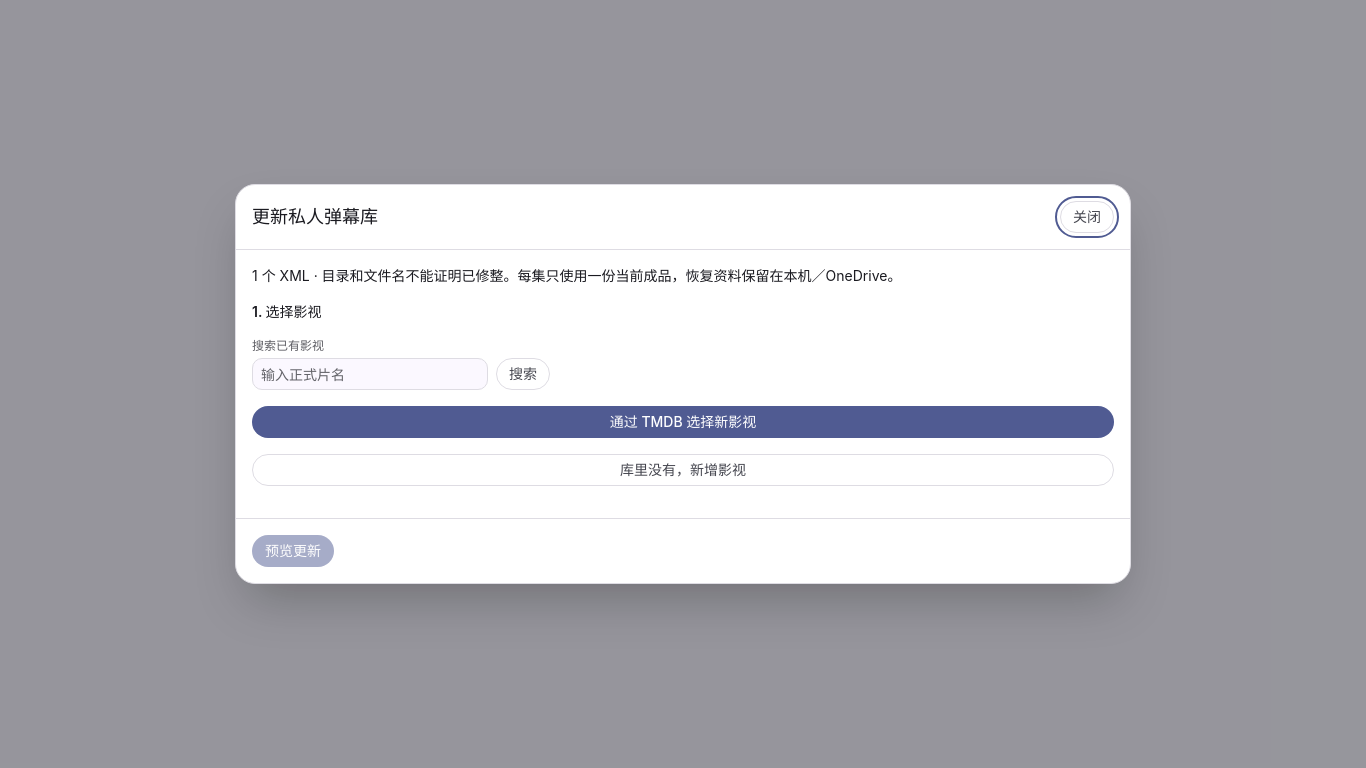
Test: redirects duplicate formal titles to choosing the existing work, and refuses stale preview baselines
The width and height of the screenshot is (1366, 768).
Click the button "库里没有，新增影视": click(683, 470) [252,454,1114,486]
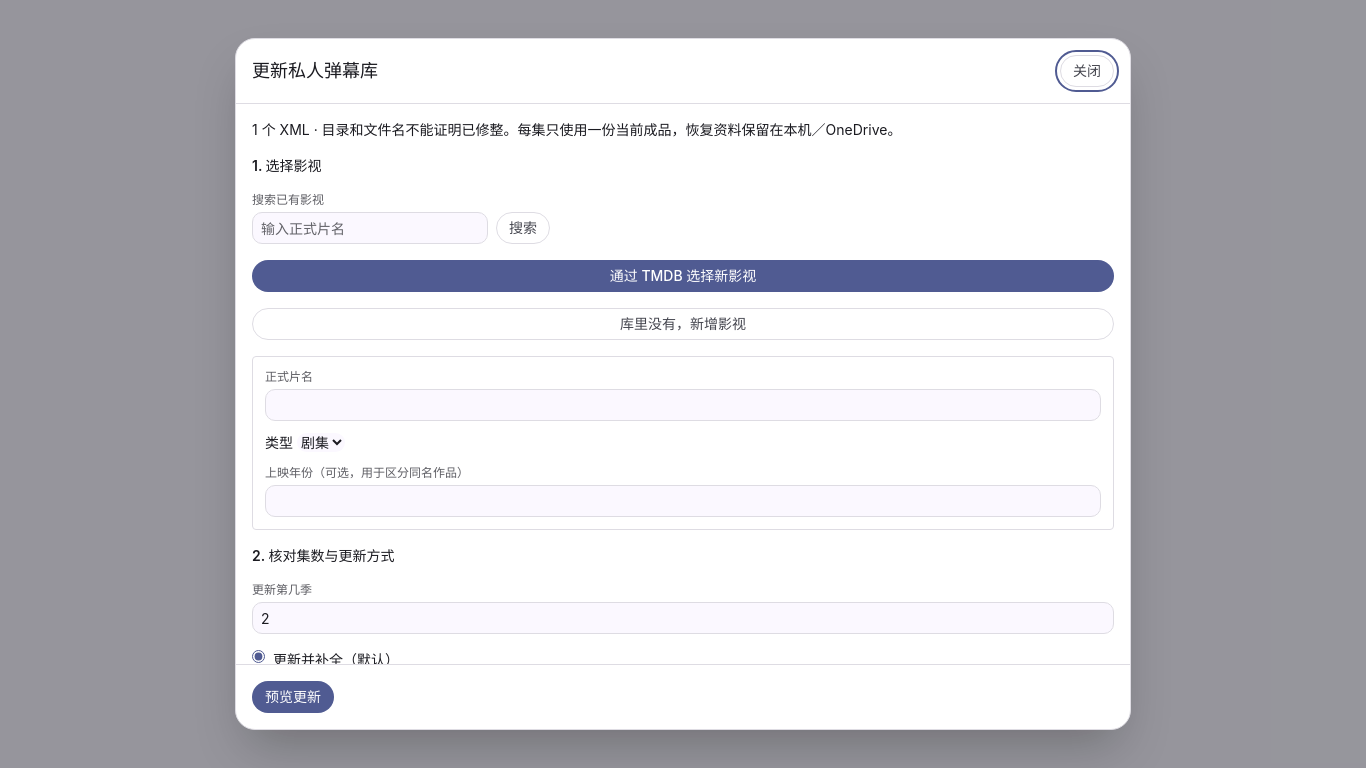
In the field labelled "正式片名": (683, 405) [265,389,1101,421], type "正式片名"
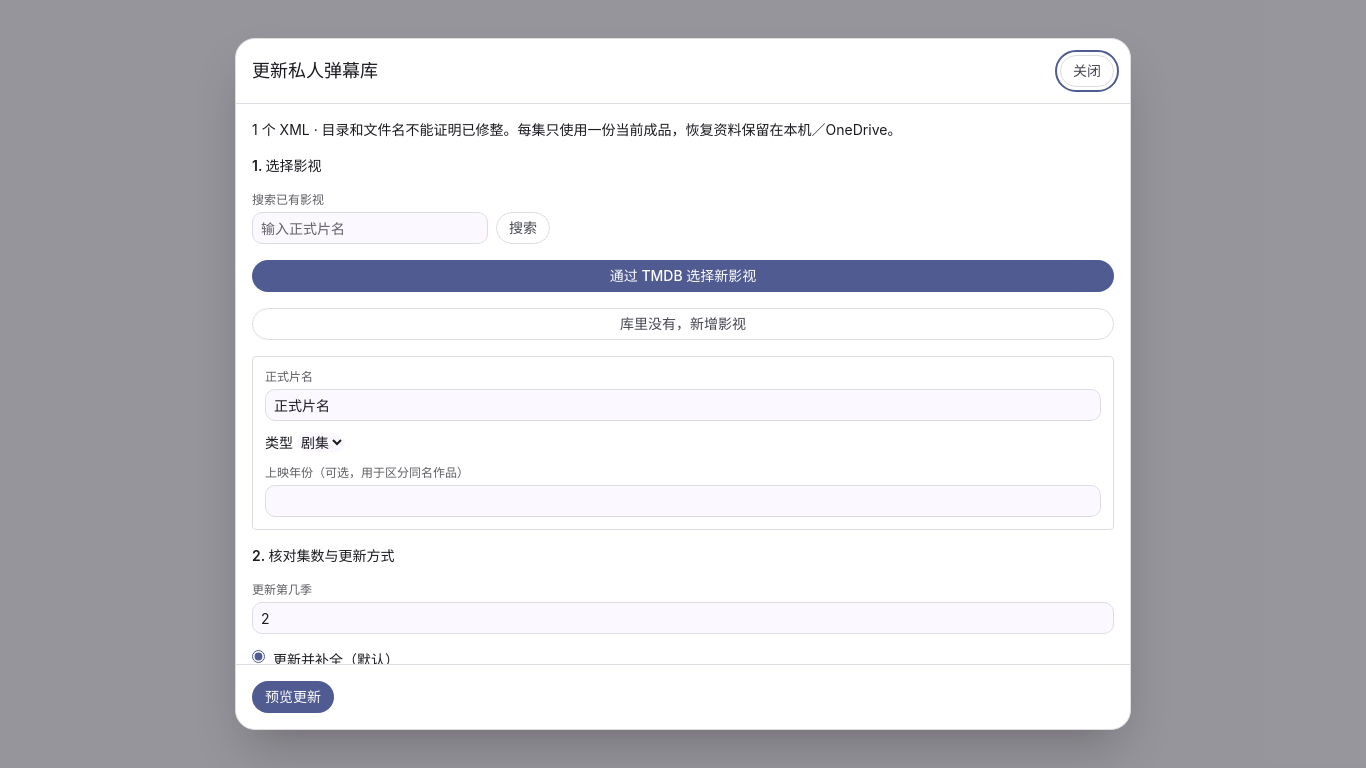
Click the button "预览更新": click(293, 697) [252,681,334,713]
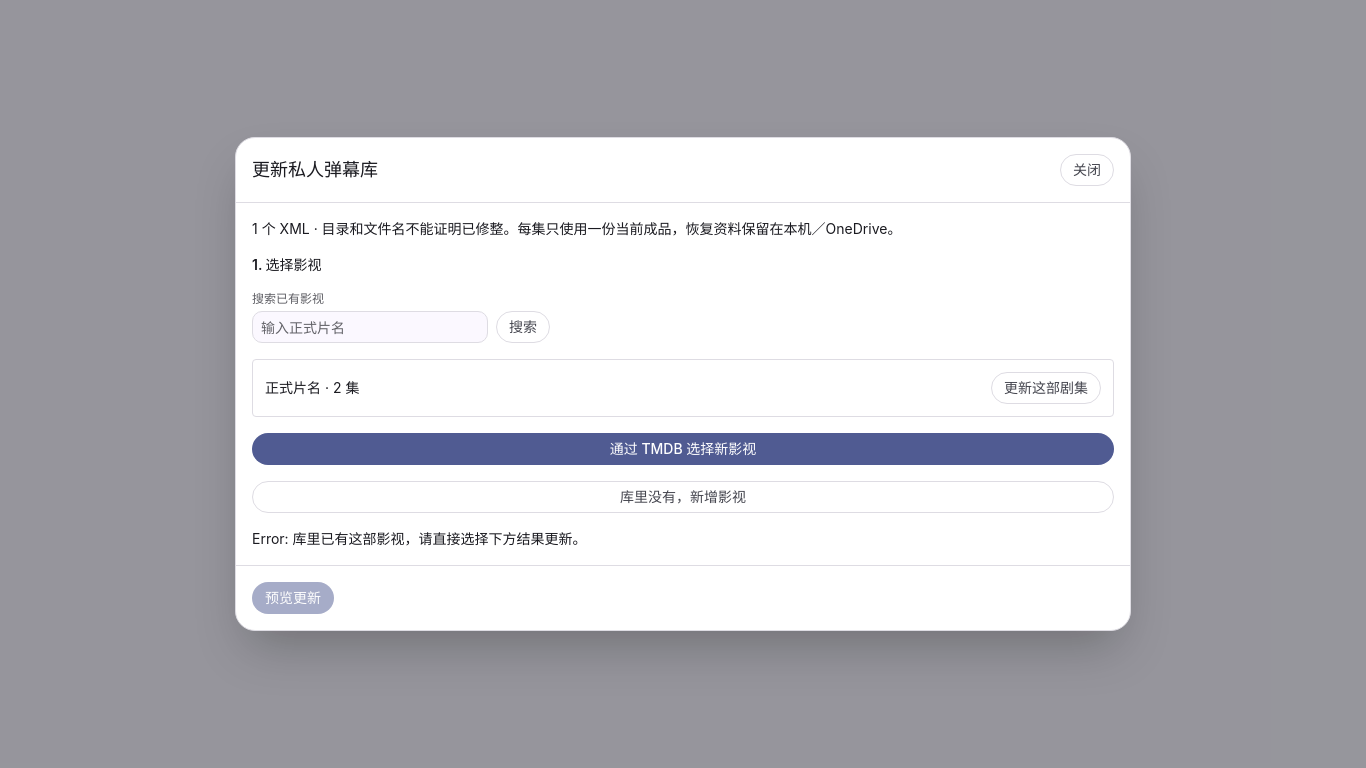
Now the text "Error: 库里已有这部影视，请直接选择下方结果更新。" is shown, box [252,530,587,547]
Click the button "更新这部剧集": click(1046, 388) [991,372,1101,404]
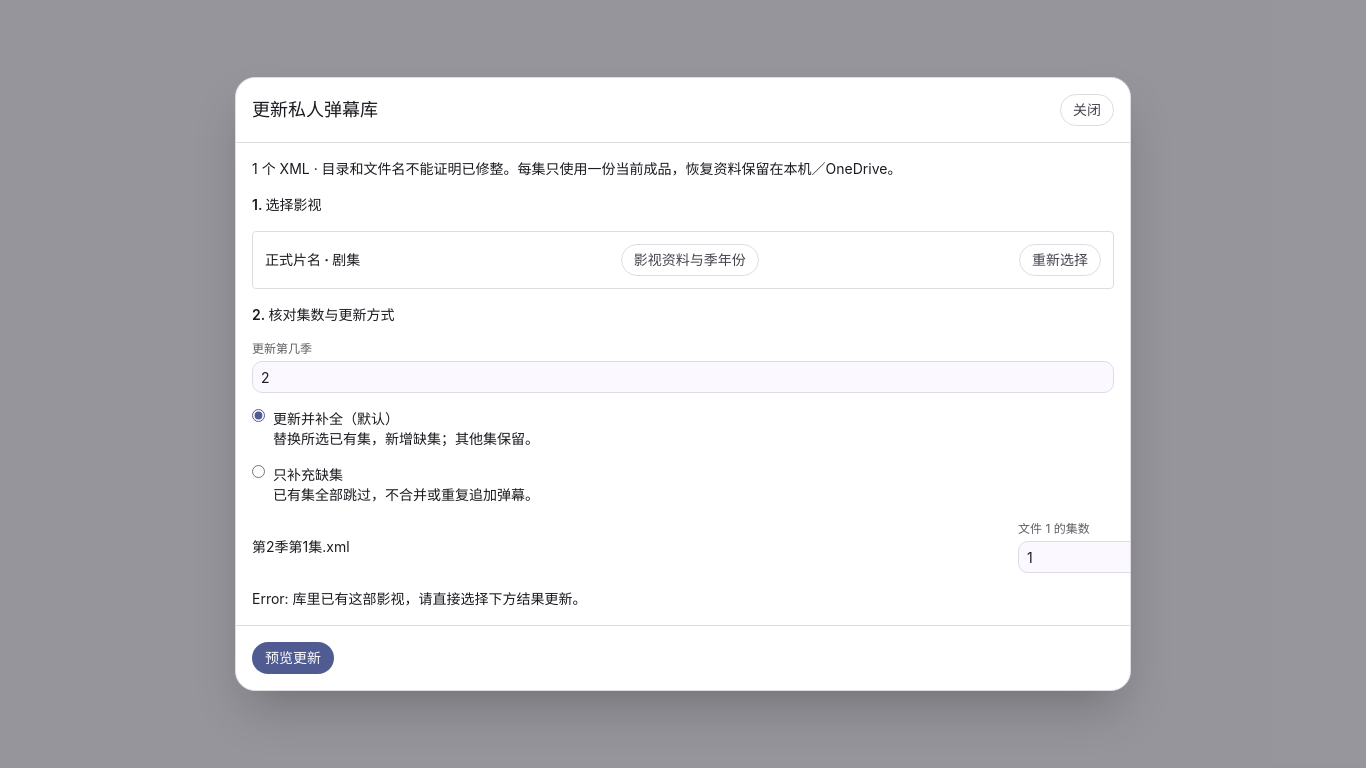
Click the button "预览更新": click(293, 658) [252,642,334,674]
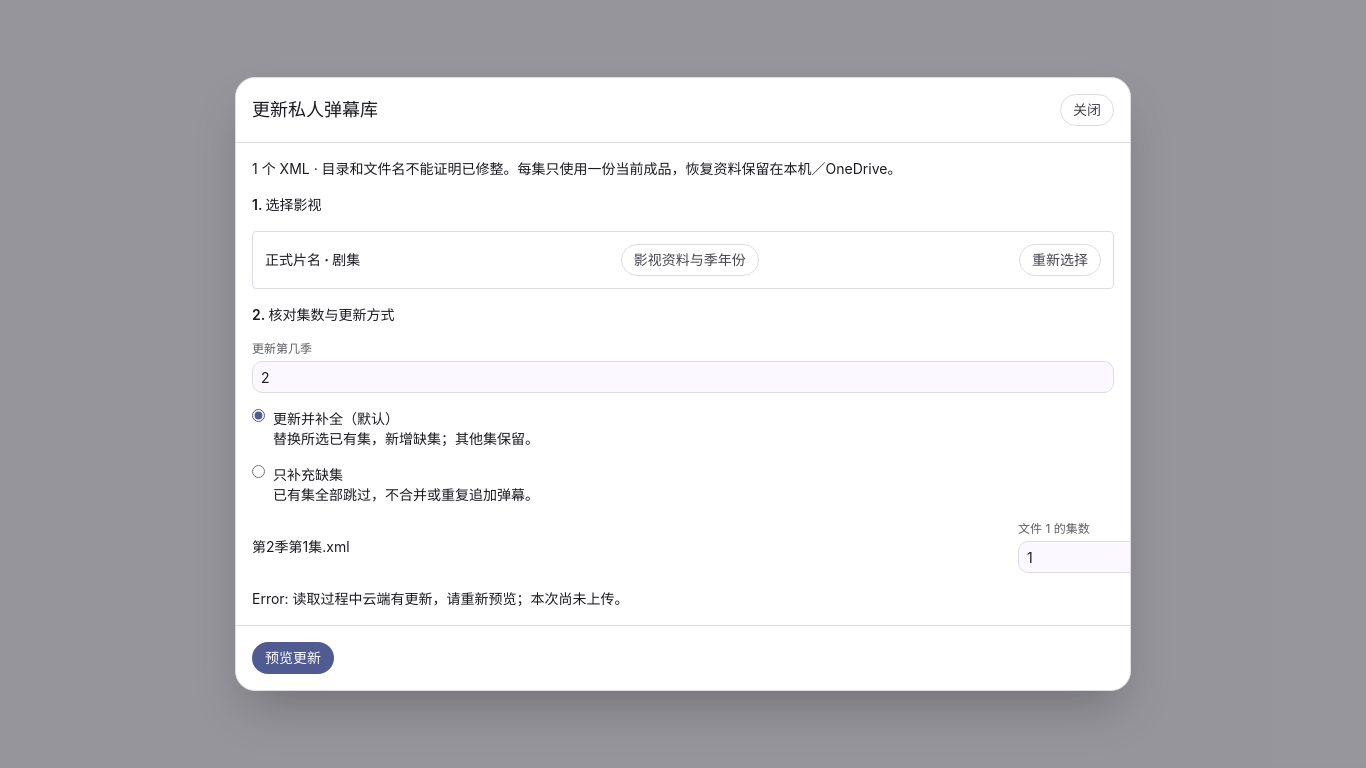
Now the text "Error: 读取过程中云端有更新，请重新预览；本次尚未上传。" is shown, box [252,590,629,607]
